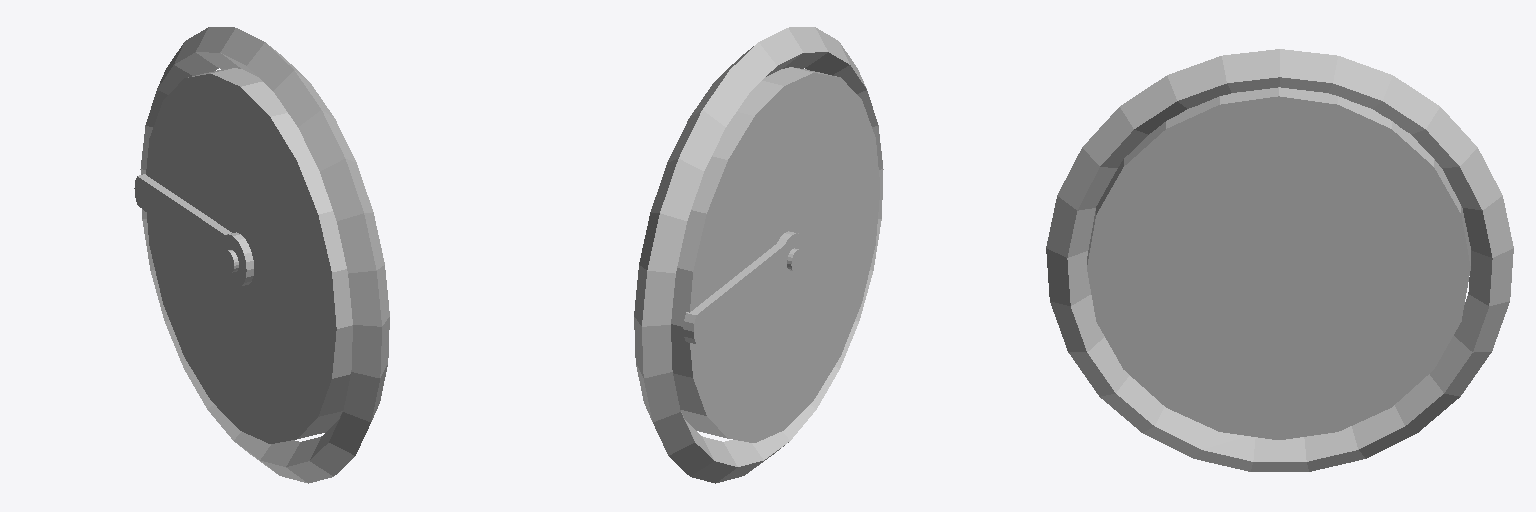
The model's file is CargoBay_Door.obj.
The picture shows the model from 3 angles: view 1: azimuth 30°, elevation 25°; view 2: azimuth 150°, elevation 25°; view 3: azimuth 270°, elevation 25°; orthographic projection.
Parts seen in each view (by area): view 1: default; view 2: default; view 3: default.
Part boxes in pixels (x1,y1,x2,y2): default: (134,27,389,483); default: (634,27,883,483); default: (1046,49,1513,471).
Bounding box in the file's own units: 3.38 × 24.24 × 24.29.